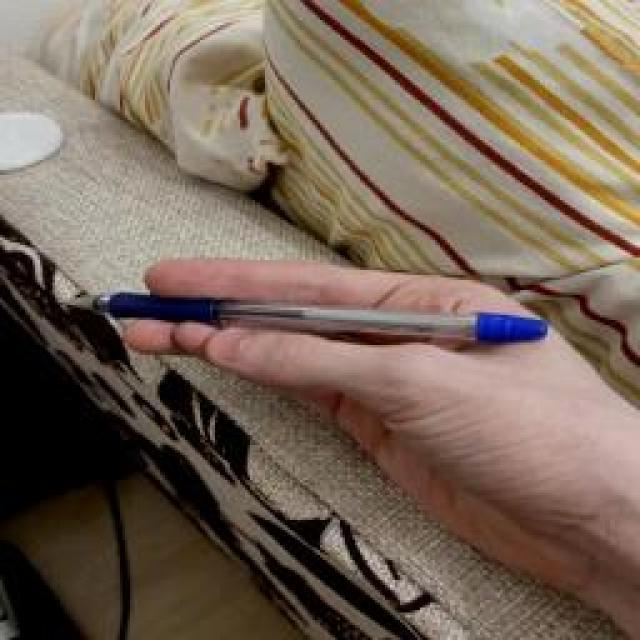pen: (52, 290, 547, 343)
